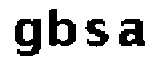a: (115, 16, 151, 49)
b: (47, 5, 79, 52)
g: (12, 16, 43, 57)
s: (81, 16, 112, 49)
